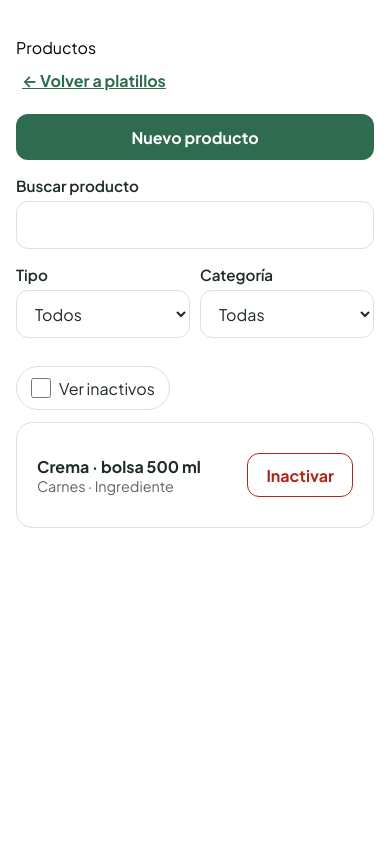
it: Catálogo de productos (HU-13) › CA-13.2 el administrador del sistema inactiva "Crema" y ve los platillos afectados
Step 1. Click the button with aria-label "Inactivar Crema" → (300, 475), box [247, 453, 353, 497]
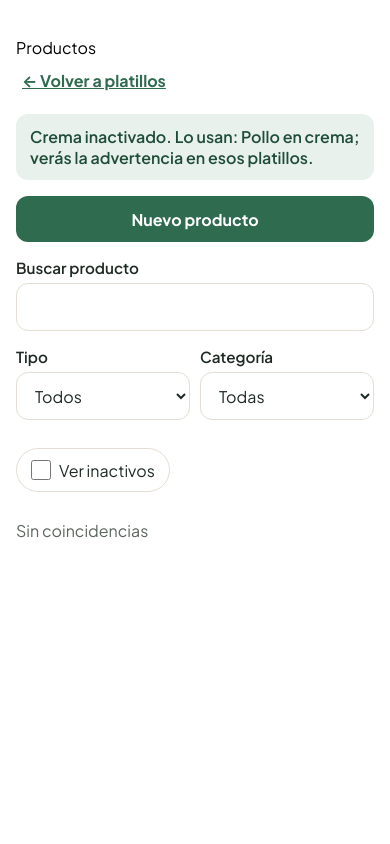
Check: the text "Crema inactivado. Lo usan: Pollo en crema" is shown, box [30, 126, 360, 168]
Step 2. Click the checkbox labelled "Ver inactivos" → (41, 470), box [31, 460, 51, 480]
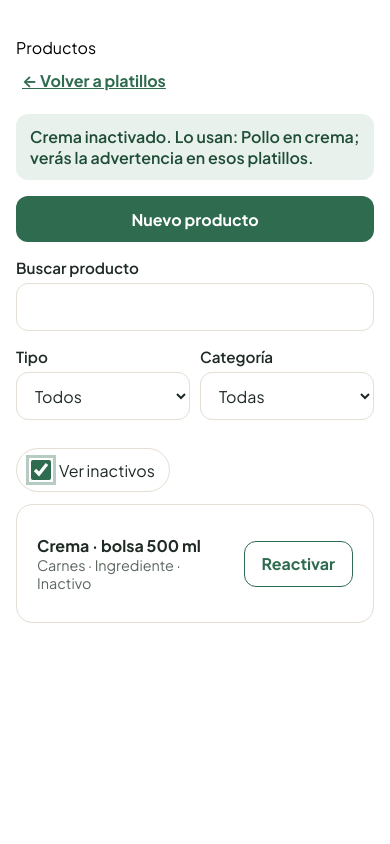
Step 3. Click the button with aria-label "Reactivar Crema" → (298, 564), box [244, 540, 353, 586]
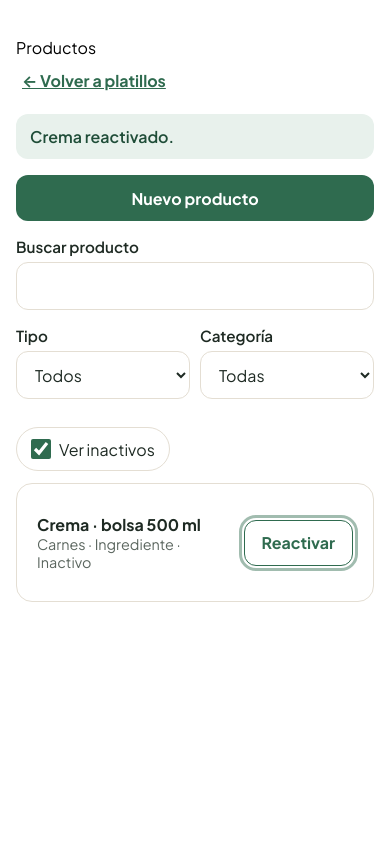
Check: the text "Crema reactivado." is shown, box [30, 126, 174, 147]
